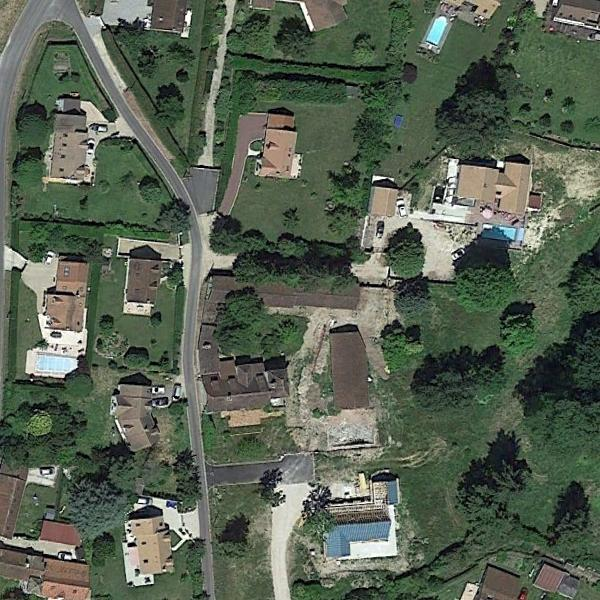Buildings: (453, 159, 531, 223), (204, 354, 285, 413), (0, 548, 90, 600), (45, 263, 83, 339), (125, 523, 180, 574), (55, 108, 90, 183), (112, 384, 155, 443), (330, 338, 370, 401), (255, 117, 295, 179), (253, 4, 353, 26), (127, 259, 160, 310), (0, 465, 22, 538), (138, 2, 187, 33), (483, 573, 526, 600), (332, 502, 385, 520), (374, 184, 395, 215)
